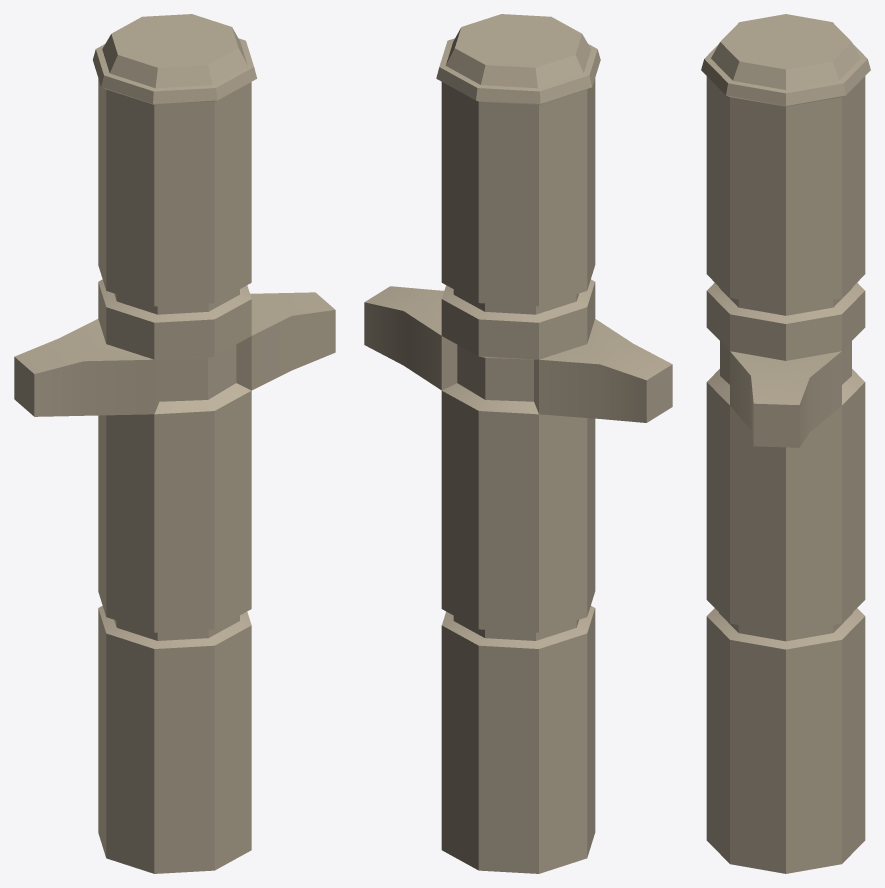
Rendered from a_z3_woodenStatue_m.fbx.
3 views of the same model, side by side, from view 1: azimuth 30°, elevation 25°; view 2: azimuth 150°, elevation 25°; view 3: azimuth 270°, elevation 25° (orthographic).
Visible parts, largest first — view 1: a_z3_woodenStatue_m; view 2: a_z3_woodenStatue_m; view 3: a_z3_woodenStatue_m.
Part boxes in pixels (<box>): a_z3_woodenStatue_m: <box>14,14,335,873</box>; a_z3_woodenStatue_m: <box>364,14,672,873</box>; a_z3_woodenStatue_m: <box>701,14,870,873</box>.
Size of the model in its own units: 98.66 by 256 by 49.39.
